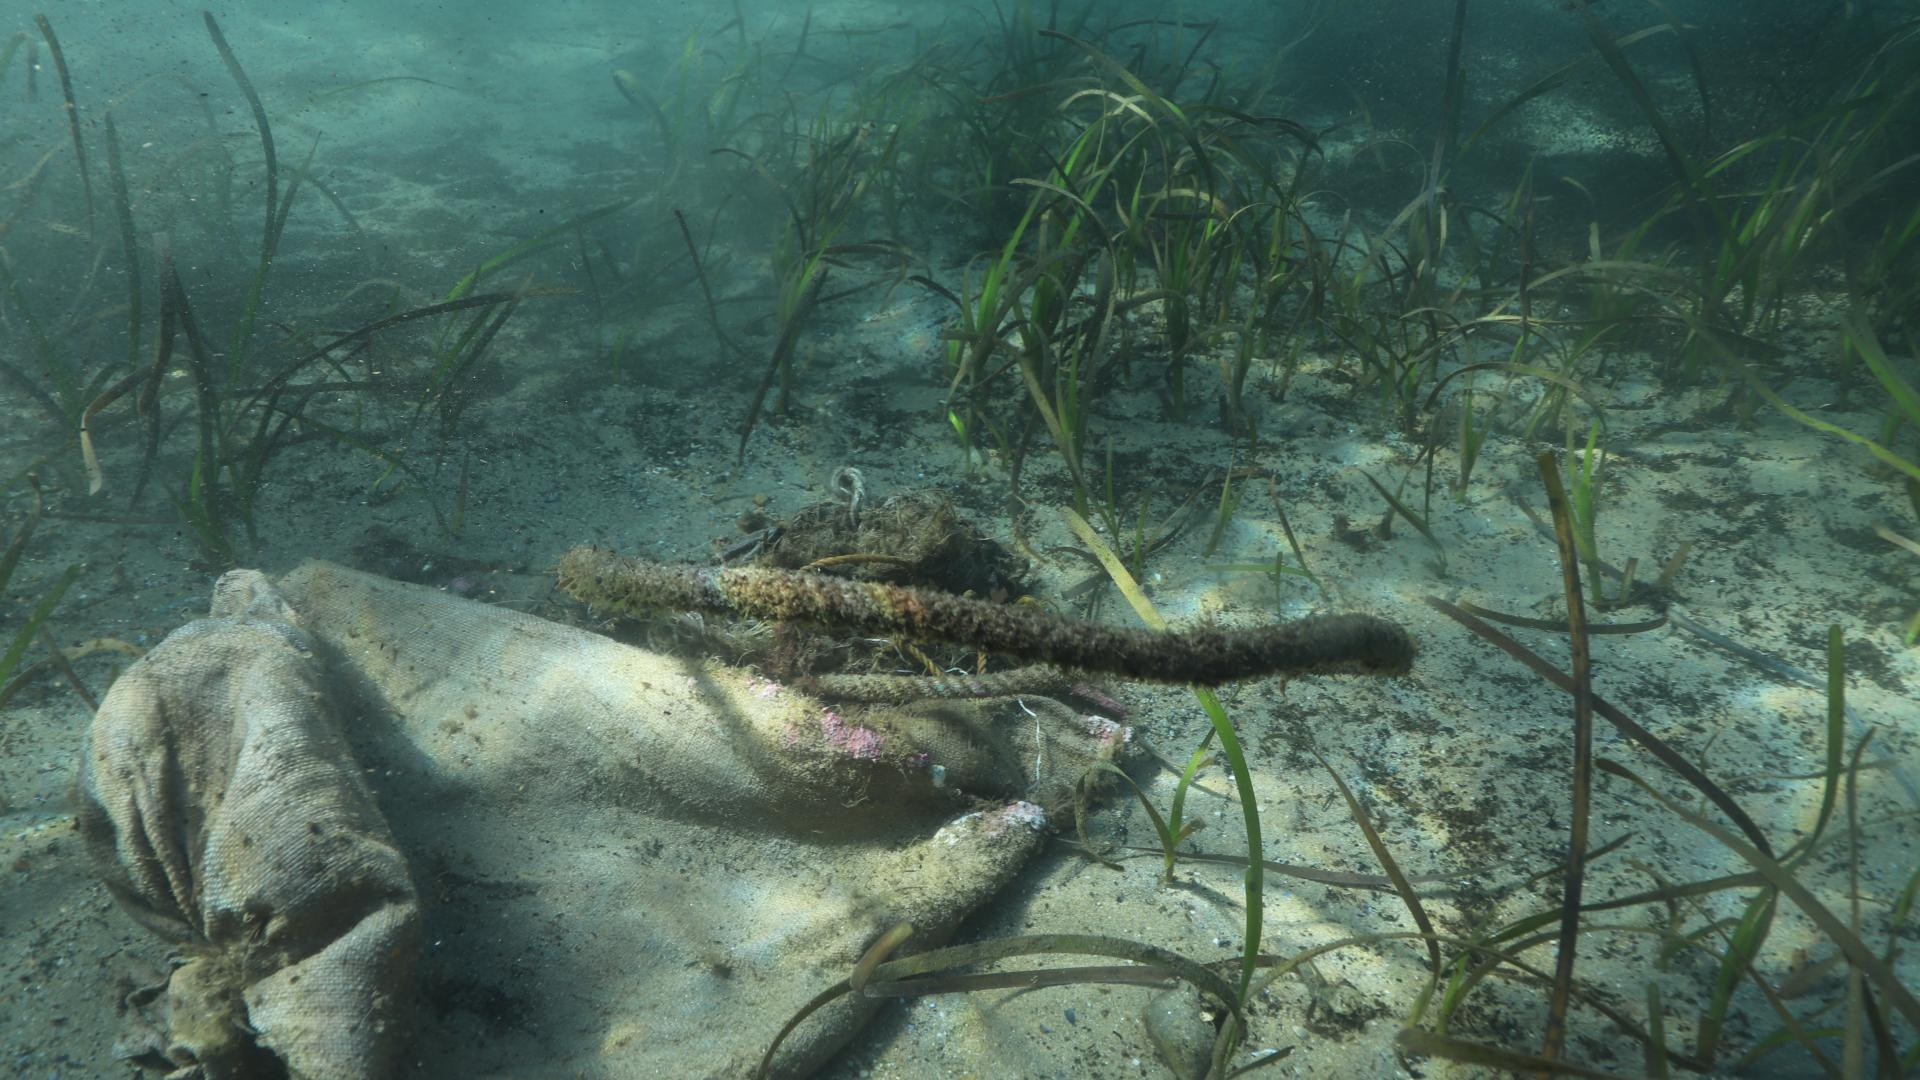rope: (555, 545, 1415, 688), (791, 659, 1139, 713), (794, 546, 926, 572)
